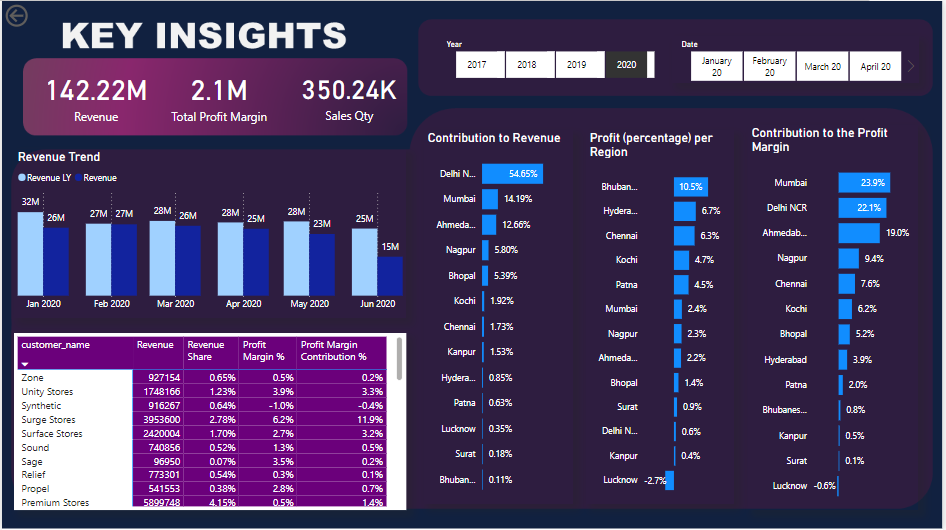

This screenshot's page, from the dashboard's own definition file:
{"tool":"powerbi","page":{"name":"Key Insights","canvas":[1280,720],"ordinal":1},"visuals":[{"type":"card","fields":{"Values":["Base Measures.Revenue"]},"box":[0,64,256,128],"z":0},{"type":"card","fields":{"Values":["Base Measures.Total Profit Margin"]},"box":[176,64,240,128],"z":1000},{"type":"barChart","title":"Profit (percentage) per Region","fields":{"Category":["sales markets.markets_name"],"Y":["Base Measures.Profit Margin"]},"box":[795.1,175.7,201.3,508.8],"z":2000},{"type":"barChart","title":"Contribution  to the Profit Margin","fields":{"Category":["sales markets.markets_name"],"Y":["Base Measures.Profit Margin Contribution %"]},"box":[1014.8,168.7,232.4,524.4],"z":3000},{"type":"slicer","fields":{"Values":["sales date.year"]},"box":[592,48,320,64],"z":4000},{"type":"slicer","fields":{"Values":["sales date.cy_date"]},"box":[912,48,336,64],"z":5000},{"type":"card","fields":{"Values":["Base Measures.Sales Qty"]},"box":[352,64,240,128],"z":9000},{"type":"barChart","title":"Contribution to Revenue","fields":{"Category":["sales markets.markets_name"],"Y":["Base Measures.Revenue Share"]},"box":[574,175.7,202.7,508.8],"z":9001},{"type":"pivotTable","fields":{"Rows":["sales customers.custmer_name"],"Values":["Base Measures.Revenue","Base Measures.Revenue Share","Base Measures.Profit Margin %","Base Measures.Profit Margin Contribution %"]},"box":[17,452.1,534.3,240.9],"z":9002},{"type":"actionButton","box":[0,0,100,40],"z":9003},{"type":"clusteredColumnChart","title":"Revenue Trend","fields":{"Category":["sales date.cy_date"],"Y":["Base Measures.Revenue LY","Base Measures.Revenue"]},"box":[17,201.3,534.3,229.6],"z":9004}]}

Visuals, with their boxes in screenshot pixels (x1, y1, x2, y2), scaled from the page's 1280x720 canvas onto the 946x530 screenshot:
card - Base Measures.Revenue: 0/47/189/141
card - Base Measures.Total Profit Margin: 130/47/307/141
"Profit (percentage) per Region" barChart: 588/129/736/504
"Contribution  to the Profit Margin" barChart: 750/124/922/510
slicer - sales date.year: 438/35/674/82
slicer - sales date.cy_date: 674/35/922/82
card - Base Measures.Sales Qty: 260/47/438/141
"Contribution to Revenue" barChart: 424/129/574/504
pivotTable - sales customers.custmer_name x Base Measures.Revenue: 13/333/407/510
actionButton: 0/0/74/29
"Revenue Trend" clusteredColumnChart: 13/148/407/317
